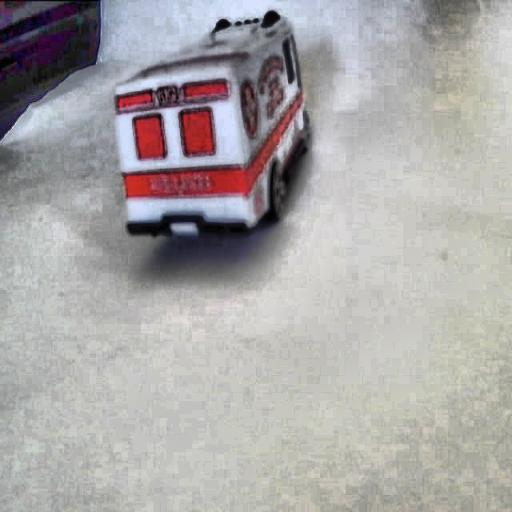ambulance: (114, 10, 310, 236)
